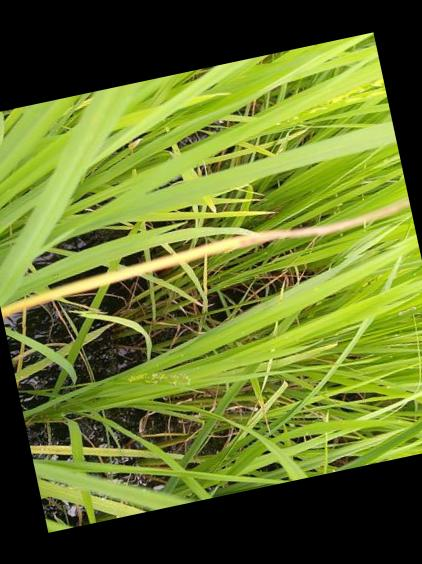Leaf Blight: (0, 196, 411, 317)
